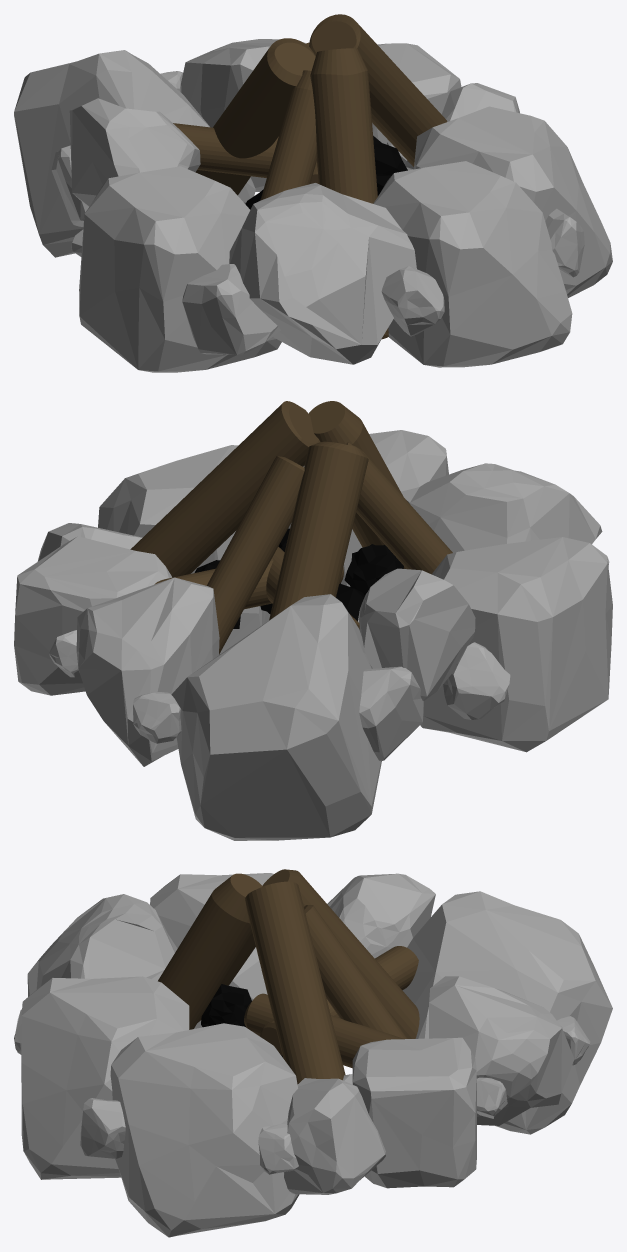
Rendered from Fireplace.glb.
The picture shows the model from 3 angles, top to bottom: view 1: azimuth 30°, elevation 25°; view 2: azimuth 150°, elevation 25°; view 3: azimuth 270°, elevation 25°; orthographic projection. The views are drawn at different scales.
Parts seen in each view (by area): view 1: Rocks, Logs, Coal; view 2: Rocks, Logs, Coal; view 3: Rocks, Logs, Coal.
Boxes of the visible parts, bbox=[...] form: Rocks: bbox=[14, 39, 612, 372]; Logs: bbox=[173, 14, 447, 339]; Coal: bbox=[245, 135, 407, 209]; Rocks: bbox=[14, 430, 612, 840]; Logs: bbox=[130, 401, 452, 654]; Coal: bbox=[194, 528, 403, 628]; Rocks: bbox=[14, 873, 612, 1237]; Logs: bbox=[158, 869, 419, 1084]; Coal: bbox=[201, 984, 282, 1057].
Bounding box in the file's own units: 1.9 × 1.13 × 2.14.
